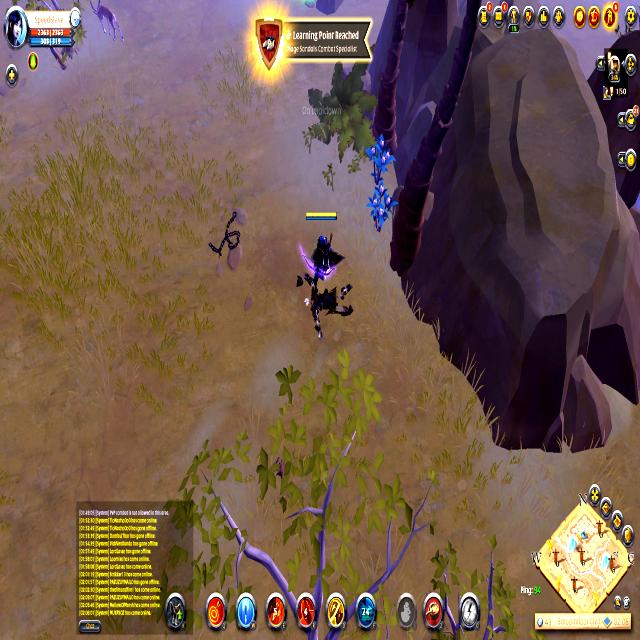hide: (366, 179, 396, 236), (366, 131, 396, 181)
ore: (85, 0, 128, 48)
red: (297, 206, 344, 291)
